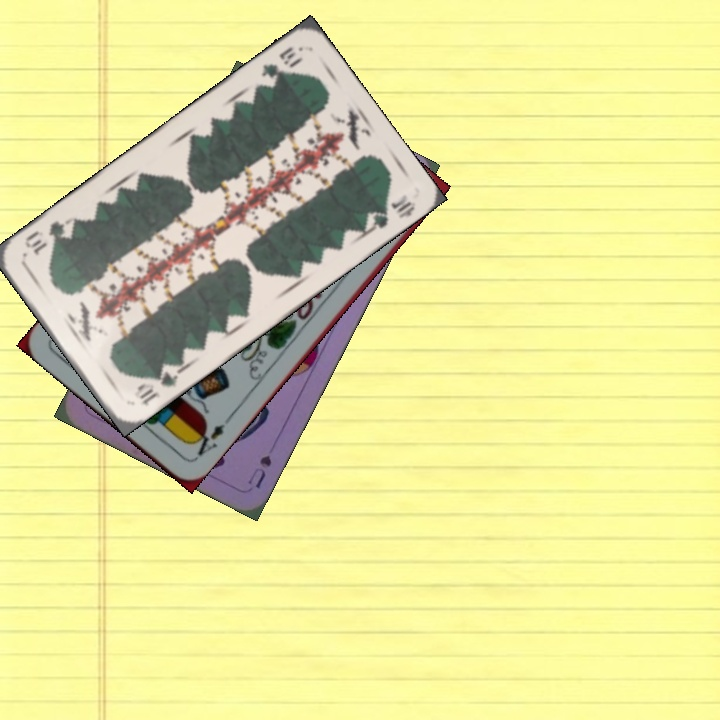EA: (187, 419, 228, 458)
G10: (133, 366, 182, 409), (257, 42, 305, 85)
SU: (244, 451, 275, 491)
